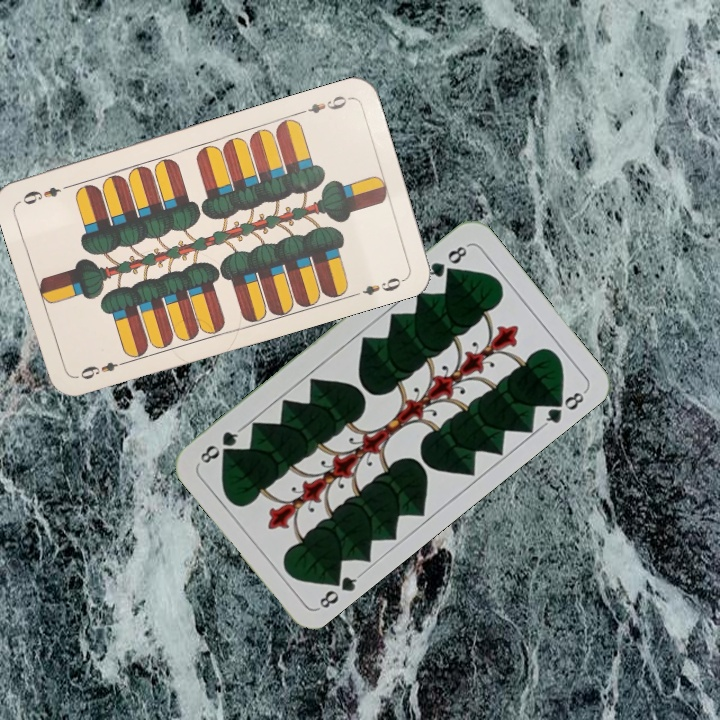E9: (295, 91, 353, 117), (71, 357, 129, 382)
G8: (314, 566, 364, 613), (422, 241, 471, 283)
